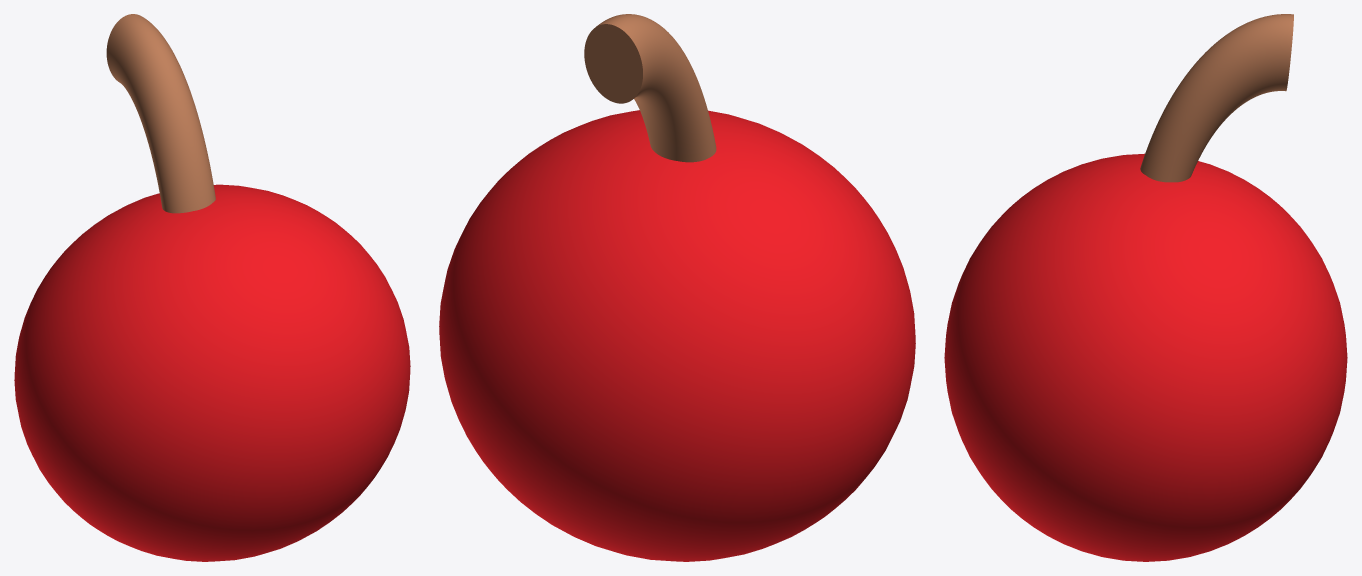
File: Apple.glb
3 renders of one model, left to right at view 1: azimuth 30°, elevation 25°; view 2: azimuth 150°, elevation 25°; view 3: azimuth 270°, elevation 25°, orthographic. The views are drawn at different scales.
Parts seen in each view (by area): view 1: mesh_id37, mesh_id39; view 2: mesh_id37, mesh_id39; view 3: mesh_id37, mesh_id39.
Boxes of the visible parts, x1,y1,x2,y2 form: mesh_id37: (14, 184, 410, 561); mesh_id39: (106, 14, 215, 213); mesh_id37: (439, 110, 915, 561); mesh_id39: (584, 14, 716, 162); mesh_id37: (944, 153, 1347, 561); mesh_id39: (1140, 14, 1293, 182).
Size of the model in its own units: 0.0589 by 0.0778 by 0.055.
2 materials, 2 textured.
